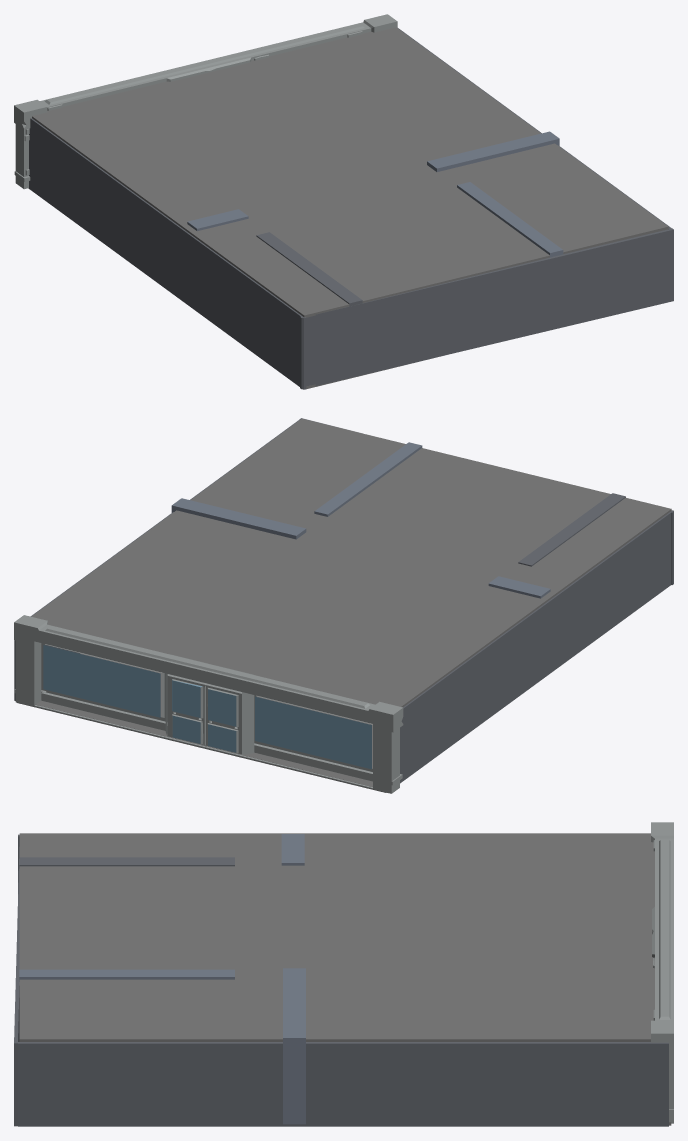
File: RistoranteInterno.fbx
3 views of the same model, one above another, from view 1: azimuth 30°, elevation 25°; view 2: azimuth 150°, elevation 25°; view 3: azimuth 270°, elevation 25° (orthographic). The views are drawn at different scales.
Parts seen in each view (by area): view 1: Cube.076, Cube.071, Cube.056, Muro con porta, Cube.001, Cube.040, MuroMagazzinoCucina, Cube.074; view 2: Cube.076, Cube.056, Muro con porta, Muro con porta.002, Muro con porta.001, Cube, Muro con porta.003, Cube.001, Cube.040, MuroMagazzinoCucina, Cube.074; view 3: Cube.076, Cube.057, Muro con porta, Cube.001, Cube.040, MuroMagazzinoCucina, Cube.071, Cube.074.
Part boxes in pixels (x1,y1,x2,y2): Cube.076: (32,27,668,317); Cube.071: (300,228,673,389); Cube.056: (28,118,306,389); Muro con porta: (14,14,397,189); Cube.001: (427,131,559,171); Cube.040: (457,182,563,257); MuroMagazzinoCucina: (256,232,362,306); Cube.074: (187,209,248,231); Cube.076: (31,418,671,707); Cube.056: (400,510,673,783); Muro con porta: (14,615,403,793); Muro con porta.002: (43,645,371,769); Muro con porta.001: (172,679,236,752); Cube: (16,653,386,792); Muro con porta.003: (158,676,251,758); Cube.001: (171,498,306,539); Cube.040: (314,442,422,516); MuroMagazzinoCucina: (518,493,625,566); Cube.074: (488,576,550,598); Cube.076: (19,833,654,1041); Cube.057: (18,1042,668,1126); Muro con porta: (651,822,673,1123); Cube.001: (283,968,305,1124); Cube.040: (19,969,234,981); MuroMagazzinoCucina: (19,857,234,868); Cube.071: (14,847,19,1126); Cube.074: (281,834,304,865).
Bounding box in the file's own units: 15.05 × 3.08 × 19.67.
